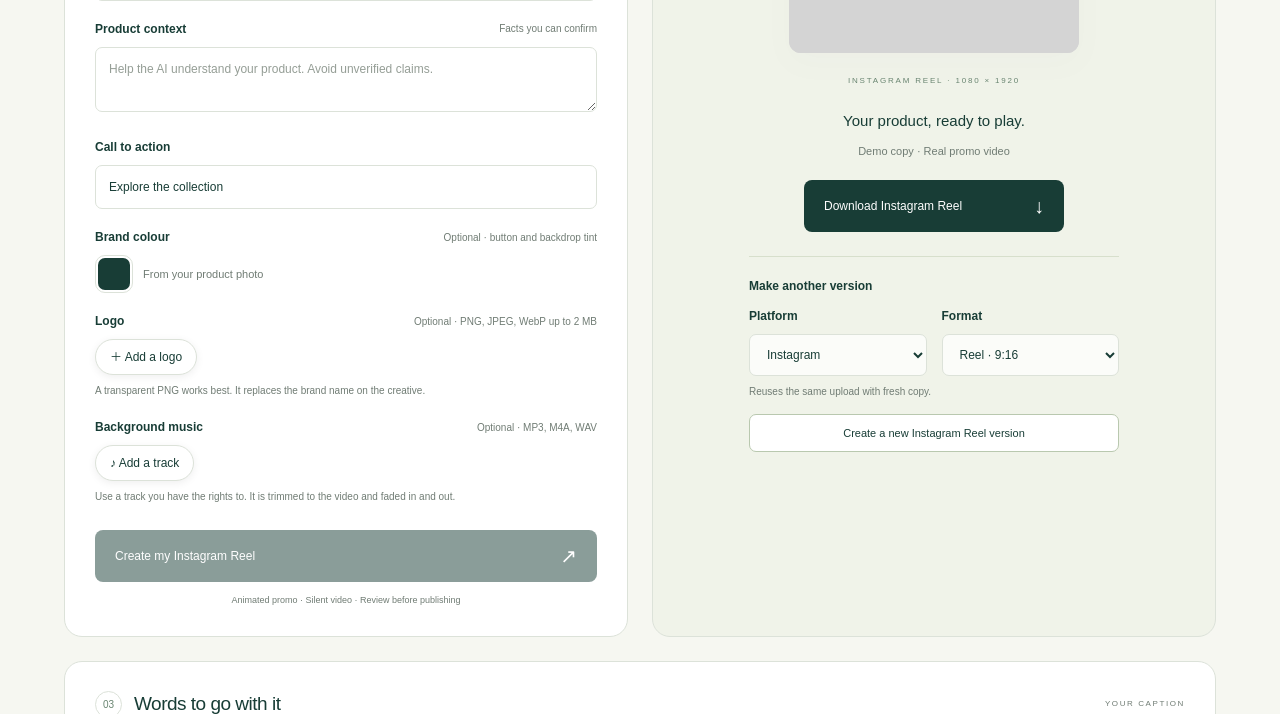
Test: another version › creates the new version and opens it
(page scrolled)
Expected: the button "Create a new Instagram Reel version" is shown, [749, 414, 1119, 452]
Select "TikTok" in the dropdown named "Platform for the new version" at coordinates (838, 355), box [749, 334, 926, 376]
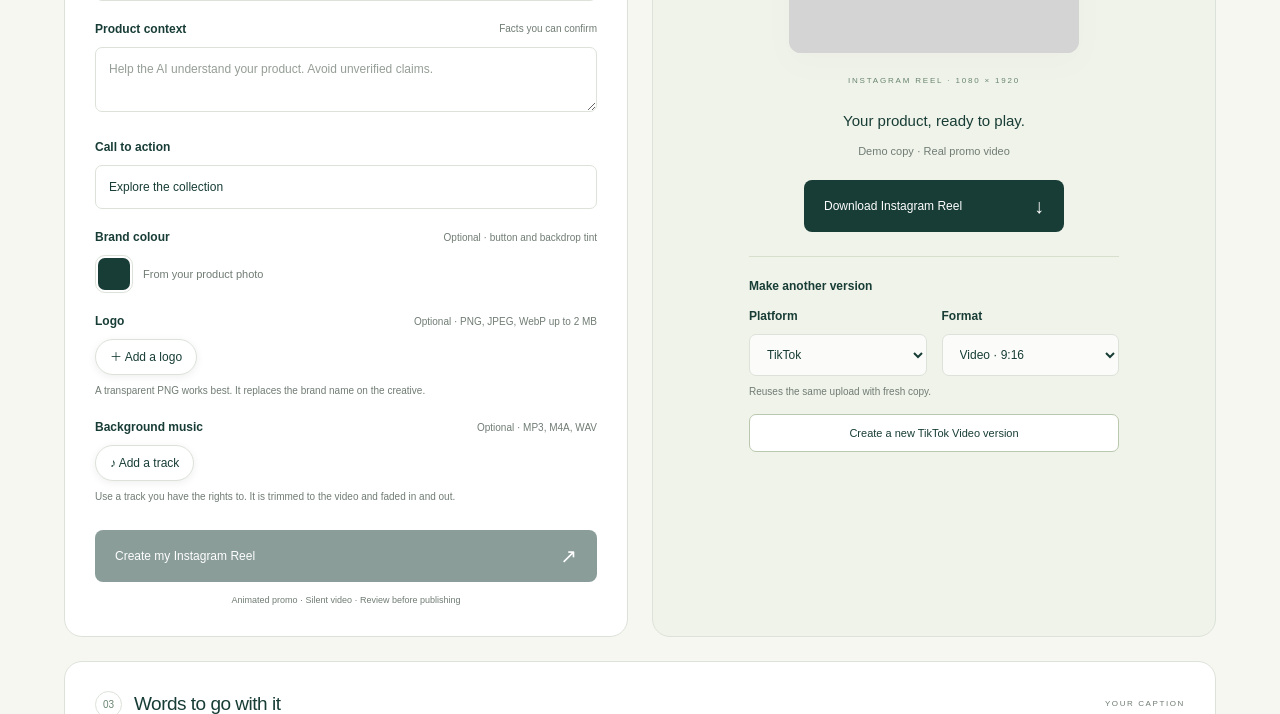
Click the button "Create a new TikTok Video version" at coordinates (934, 433), box [749, 414, 1119, 452]
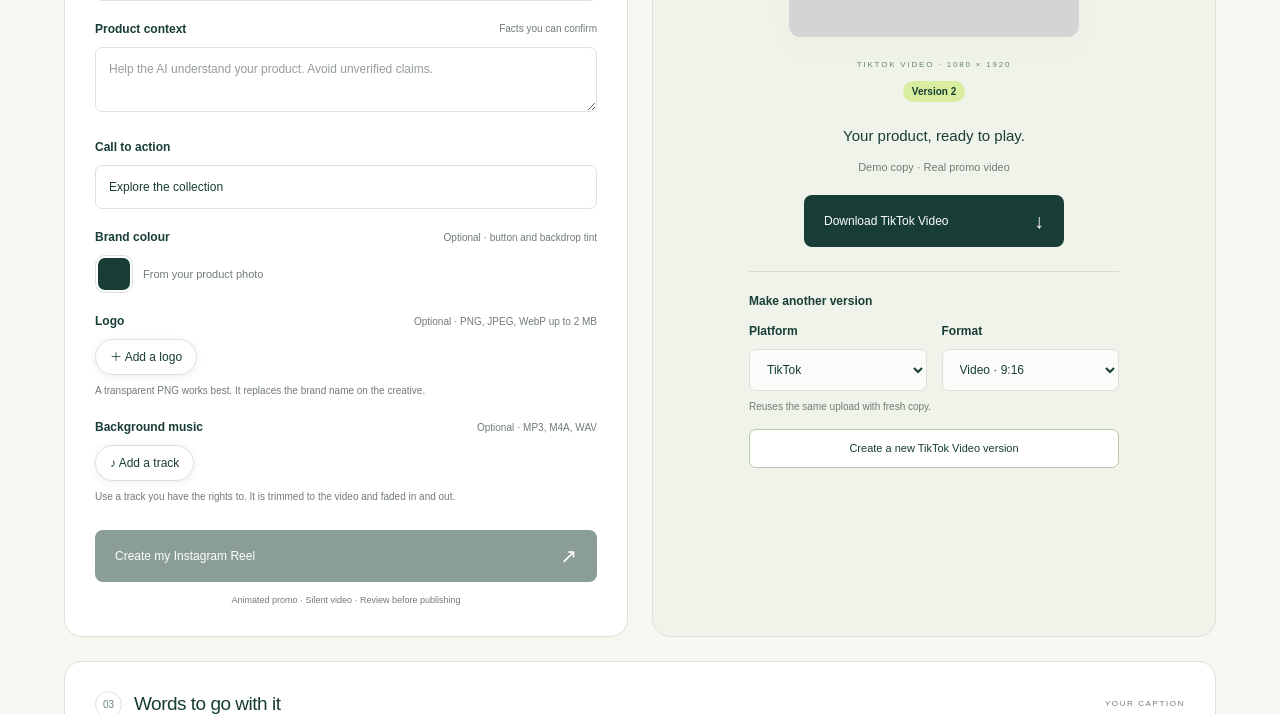
Expected: the text "Version 2" is shown, [903, 81, 965, 102]
